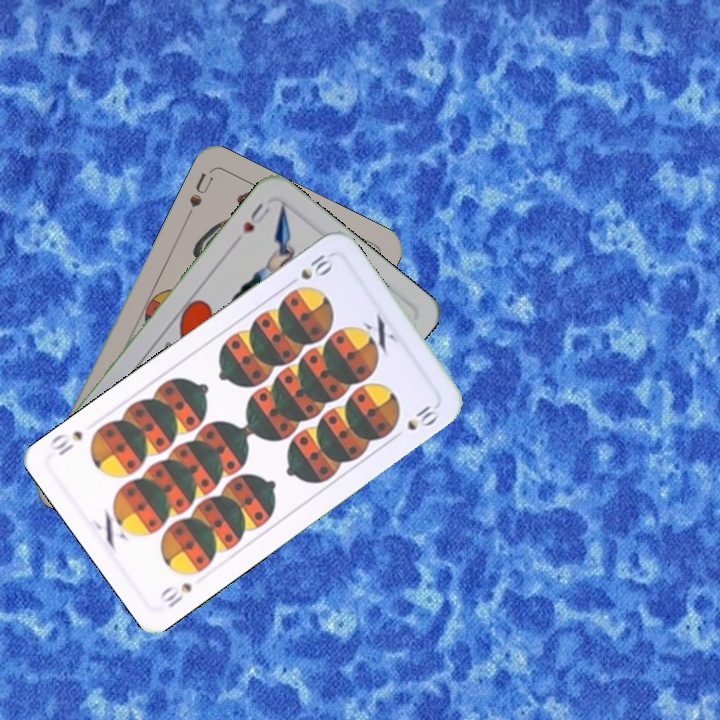HU: (238, 199, 273, 237)
S10: (282, 250, 337, 290), (155, 578, 195, 611)
SU: (181, 167, 217, 223)
